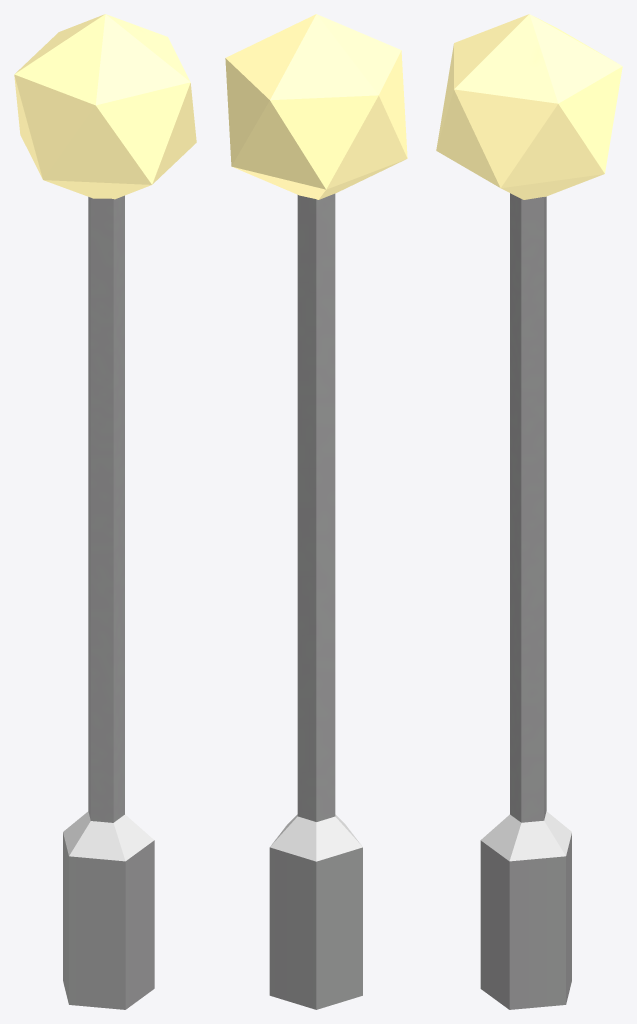
File: stolb.006.glb
3 views of the same model, side by side, from view 1: azimuth 30°, elevation 25°; view 2: azimuth 150°, elevation 25°; view 3: azimuth 270°, elevation 25° (orthographic).
Parts seen in each view (by area): view 1: stolb.006(Clone); view 2: stolb.006(Clone); view 3: stolb.006(Clone).
Boxes of the visible parts, x1,y1,x2,y2 form: stolb.006(Clone): [14, 14, 196, 1009]; stolb.006(Clone): [225, 14, 407, 1009]; stolb.006(Clone): [436, 14, 622, 1009].
Size of the model in its own units: 0.4704 by 2.86 by 0.4946.
1 material, 1 textured.
